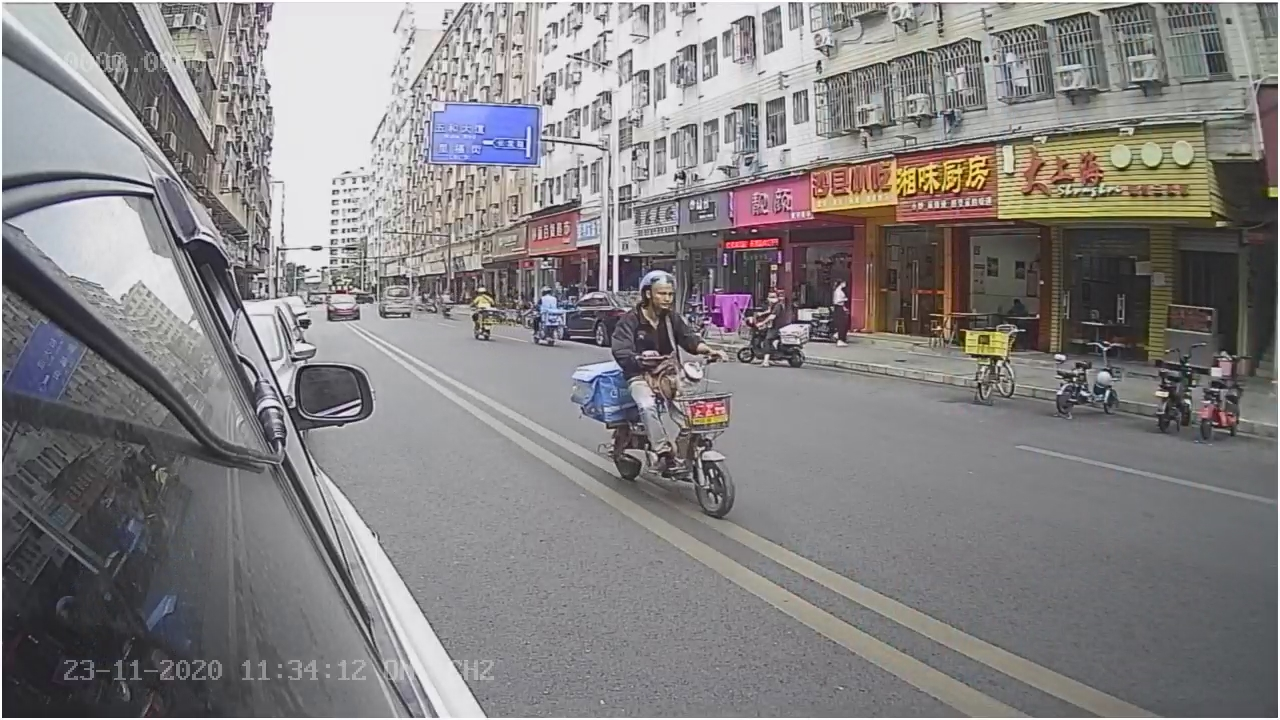person: (612, 262, 712, 362)
